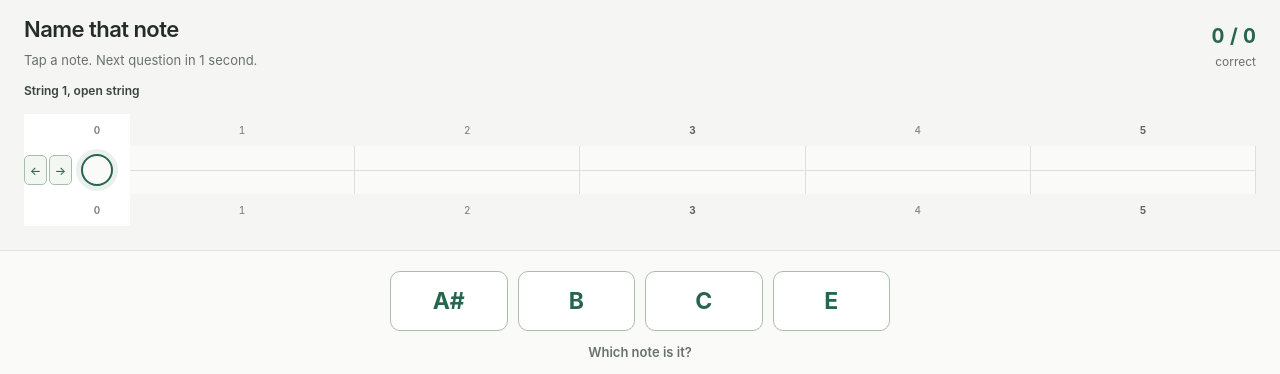
Test: note game › cancels pending feedback when the tuning or fret window changes
Click the button "E" at (831, 301), box [772,271,890,331]
Wait 1500 ms
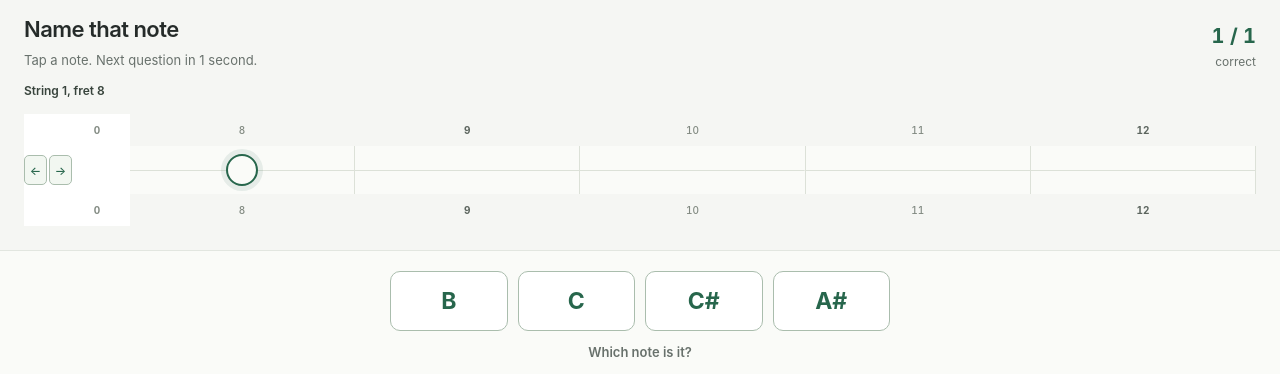
Expected: the button named "String 1, fret 8, note to identify" is empty, [130,146,355,194]
Expected: the element showing "1 / 1 correct" is shown, [1212,16,1256,71]
